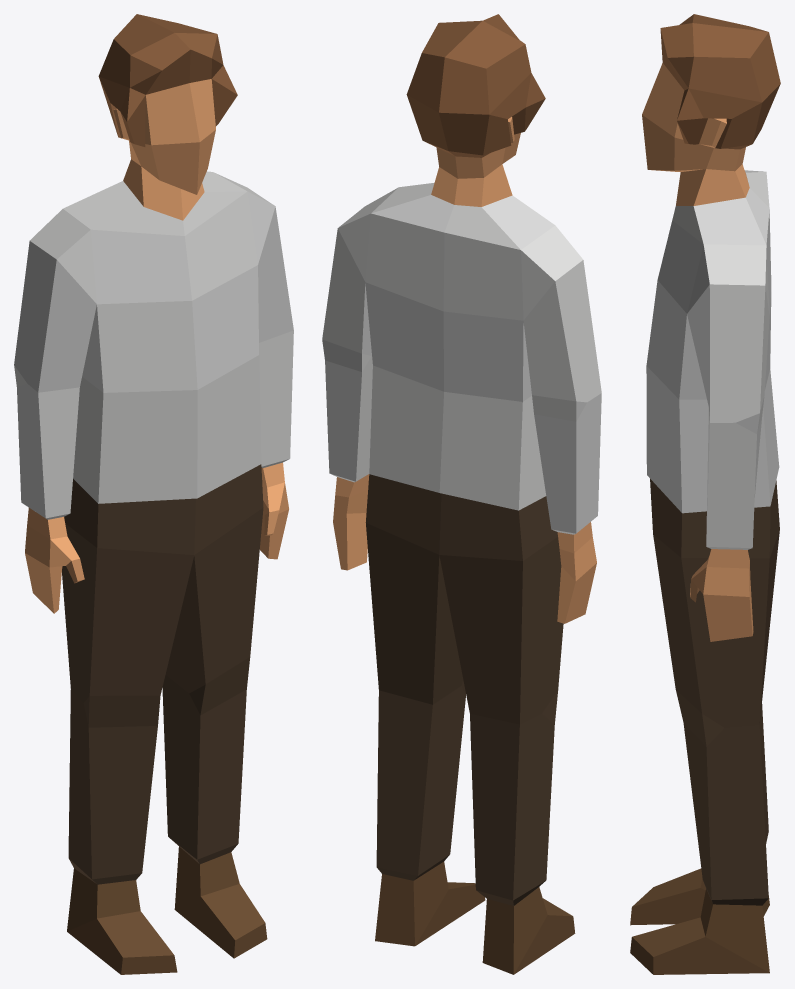
Rendered from man-guy.glb.
3 views of the same model, side by side, from view 1: azimuth 30°, elevation 25°; view 2: azimuth 150°, elevation 25°; view 3: azimuth 270°, elevation 25° (orthographic).
Parts seen in each view (by area): view 1: man-guy; view 2: man-guy; view 3: man-guy.
Part boxes in pixels (x1,y1,x2,y2): man-guy: (14,14,293,974); man-guy: (322,14,601,974); man-guy: (630,14,780,974).
Bounding box in the file's own units: 0.5438 × 1.85 × 0.2757.
1 material, 1 textured.
